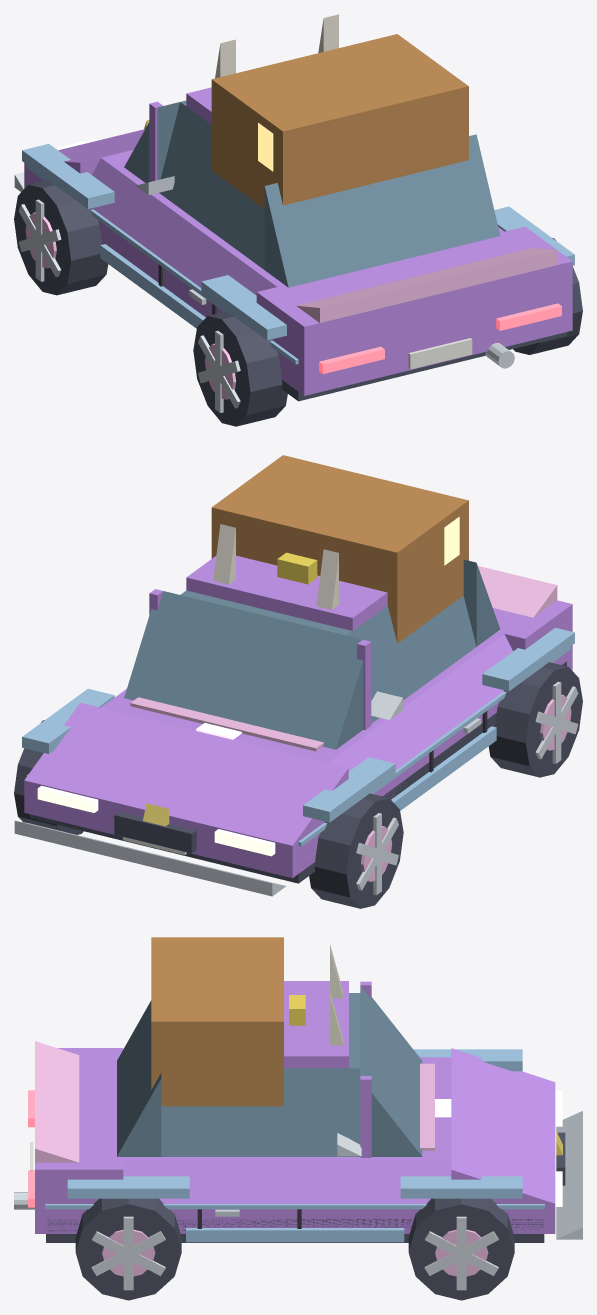
File: treasure_tug.glb
3 views of the same model, one above another, from view 1: azimuth 30°, elevation 25°; view 2: azimuth 150°, elevation 25°; view 3: azimuth 270°, elevation 25° (orthographic). The views are drawn at different scales.
Visible parts, largest first — view 1: TreasureChest.002, RearWindow.233, Tail.137, Body.333, CabinSideL.130, ShoulderL.130, Wheel_RL.273, Wheel_FL.273, Ducktail.089, Arch-1False.189, Arch-1True.189, SideSkirt-1.229 (+20 smaller); view 2: TreasureChest.002, Windshield.233, Nose.130, ShoulderL.130, Body.333, CabinSideL.130, Roof.333, Wheel_FL.273, Wheel_RL.273, Bumper.329, BodyUpper.130, Arch-1False.189 (+21 smaller); view 3: TreasureChest.002, Nose.130, CabinSideR.130, ShoulderR.130, Windshield.233, Tail.137, Body.333, Wheel_FR.273, Wheel_RR.273, RearWindow.233, Ducktail.089, Roof.333 (+20 smaller).
Boxes of the visible parts, left/top/right/bottom form: TreasureChest.002: left=211, top=34, right=468, bottom=208; RearWindow.233: left=264, top=134, right=500, bottom=287; Tail.137: left=256, top=226, right=572, bottom=363; Body.333: left=24, top=163, right=572, bottom=395; CabinSideL.130: left=159, top=102, right=264, bottom=269; ShoulderL.130: left=92, top=158, right=276, bottom=295; Wheel_RL.273: left=193, top=311, right=287, bottom=426; Wheel_FL.273: left=14, top=180, right=108, bottom=295; Ducktail.089: left=296, top=247, right=557, bottom=322; Arch-1False.189: left=22, top=143, right=114, bottom=208; Arch-1True.189: left=201, top=275, right=286, bottom=340; SideSkirt-1.229: left=100, top=244, right=205, bottom=328; TreasureChest.002: left=211, top=455, right=468, bottom=643; Windshield.233: left=124, top=591, right=363, bottom=749; Nose.130: left=24, top=702, right=348, bottom=845; ShoulderL.130: left=328, top=634, right=512, bottom=771; Body.333: left=24, top=645, right=572, bottom=878; CabinSideL.130: left=347, top=595, right=476, bottom=723; Roof.333: left=186, top=555, right=387, bottom=630; Wheel_FL.273: left=309, top=793, right=403, bottom=908; Wheel_RL.273: left=488, top=662, right=582, bottom=777; Bumper.329: left=14, top=821, right=286, bottom=896; BodyUpper.130: left=101, top=632, right=503, bottom=762; Arch-1False.189: left=303, top=757, right=395, bottom=822; TreasureChest.002: left=151, top=937, right=283, bottom=1106; Nose.130: left=451, top=1048, right=555, bottom=1203; CabinSideR.130: left=161, top=1068, right=360, bottom=1156; ShoulderR.130: left=123, top=1160, right=451, bottom=1203; Windshield.233: left=360, top=986, right=422, bottom=1156; Tail.137: left=35, top=1048, right=123, bottom=1203; Body.333: left=35, top=1204, right=555, bottom=1233; Wheel_FR.273: left=408, top=1198, right=514, bottom=1300; Wheel_RR.273: left=75, top=1198, right=181, bottom=1300; RearWindow.233: left=117, top=1000, right=161, bottom=1156; Ducktail.089: left=35, top=1041, right=79, bottom=1162; Roof.333: left=284, top=981, right=348, bottom=1068.
Bounding box in the file's own units: 3.3 × 2.54 × 5.14.
